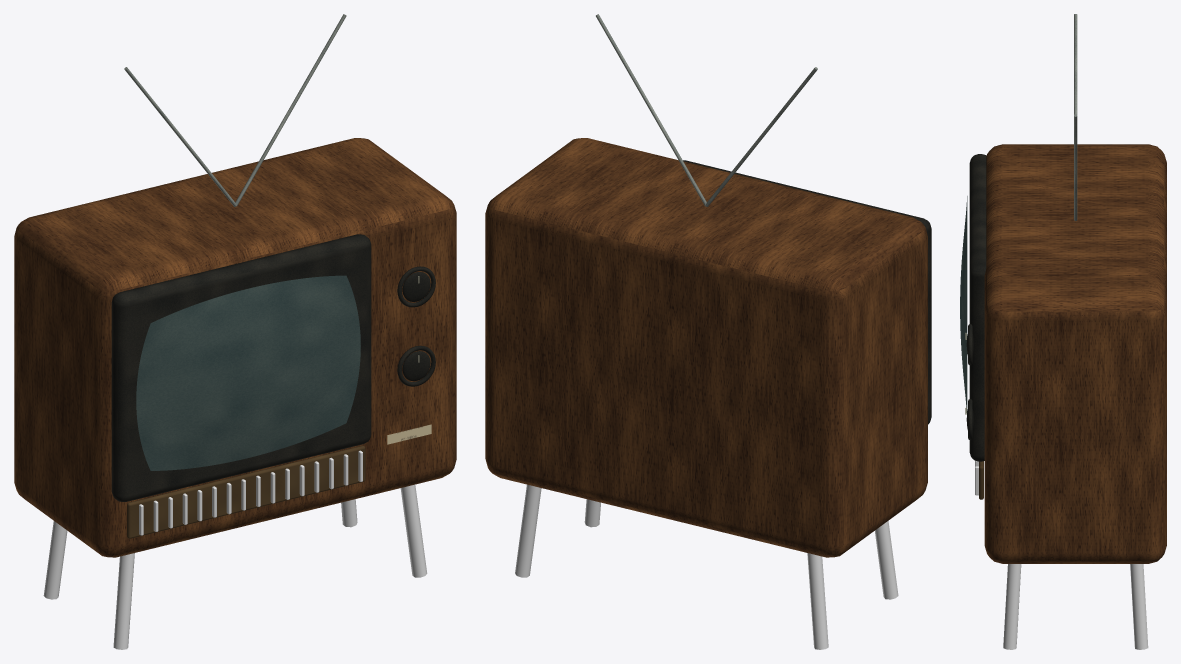
The model's file is Television.fbx.
The picture shows the model from 3 angles, left to right: view 1: azimuth 30°, elevation 25°; view 2: azimuth 150°, elevation 25°; view 3: azimuth 270°, elevation 25°; orthographic projection. The views are drawn at different scales.
Parts seen in each view (by area): view 1: Television_SmokedOak, Television_Screen, Television_Iron, Television_Walnut, Television_Speaker, Television_Chrome; view 2: Television_SmokedOak, Television_Walnut, Television_Chrome, Television_Iron; view 3: Television_SmokedOak, Television_Iron, Television_Walnut, Television_Screen, Television_Chrome.
Part boxes in pixels (x1=…): Television_SmokedOak: x1=14, y1=138, x2=456, y2=557; Television_Screen: x1=136, y1=275, x2=360, y2=470; Television_Iron: x1=111, y1=234, x2=435, y2=501; Television_Walnut: x1=43, y1=450, x2=427, y2=649; Television_Speaker: x1=127, y1=445, x2=365, y2=538; Television_Chrome: x1=124, y1=14, x2=346, y2=206; Television_SmokedOak: x1=485, y1=138, x2=927, y2=557; Television_Walnut: x1=515, y1=484, x2=898, y2=649; Television_Chrome: x1=596, y1=14, x2=817, y2=206; Television_Iron: x1=683, y1=160, x2=931, y2=424; Television_SmokedOak: x1=984, y1=144, x2=1166, y2=563; Television_Iron: x1=966, y1=154, x2=986, y2=461; Television_Walnut: x1=975, y1=460, x2=1148, y2=649; Television_Screen: x1=960, y1=196, x2=967, y2=412; Television_Chrome: x1=1074, y1=14, x2=1077, y2=221.
Bounding box in the file's own units: 138 × 200 × 72.6.
